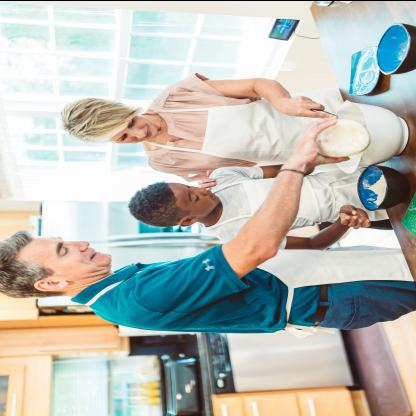Eye: (60, 246, 68, 256), (190, 193, 198, 202), (128, 118, 134, 127), (121, 133, 127, 141), (184, 184, 190, 188)
Mouth: (142, 125, 152, 139), (90, 248, 99, 259), (209, 189, 216, 199)
Nose: (70, 240, 90, 251), (130, 128, 146, 136), (193, 186, 207, 194)
